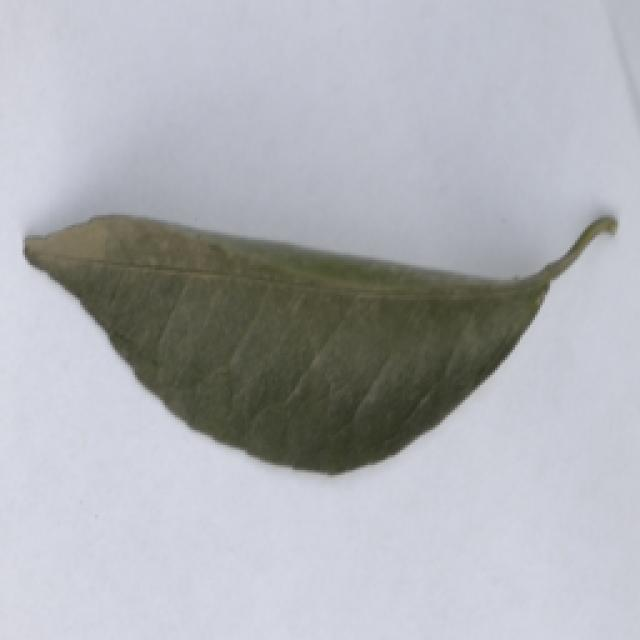healthy: (18, 166, 624, 507)
